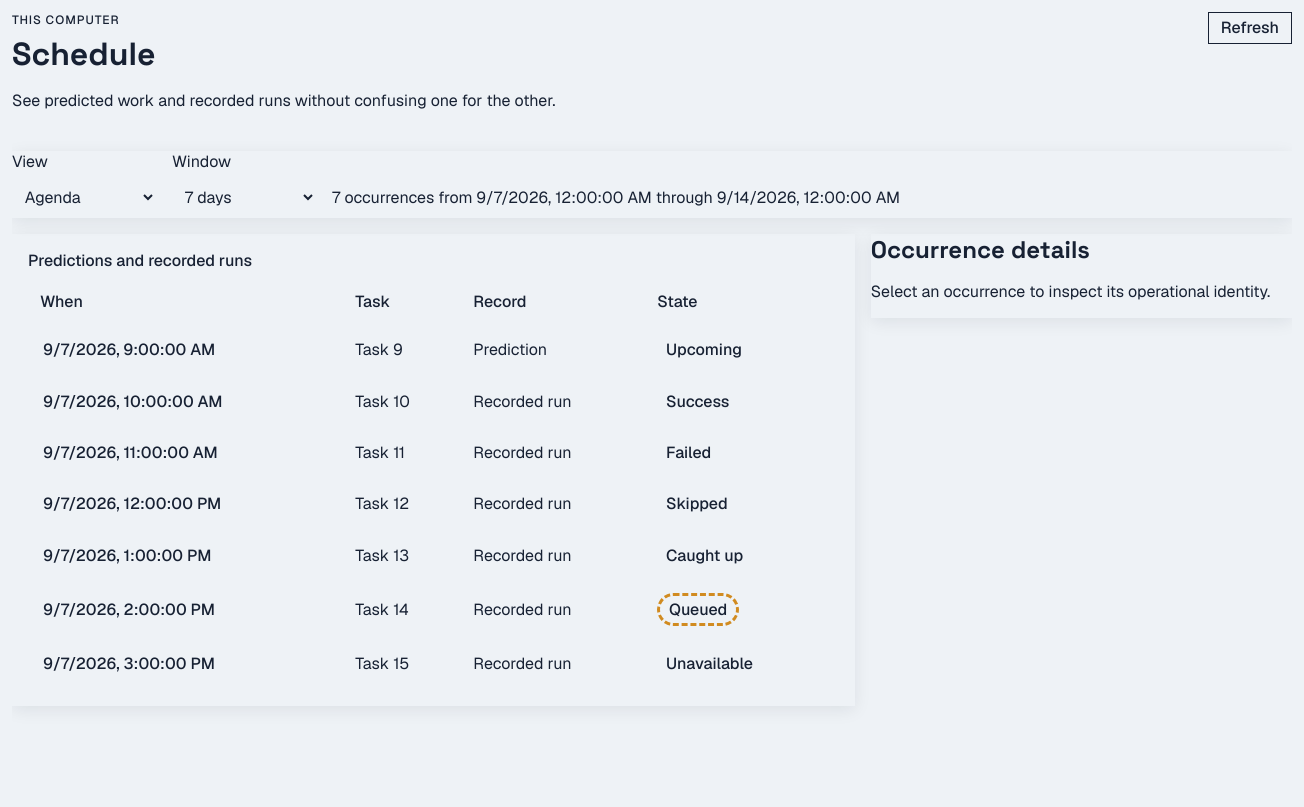
SchedulePage › distinguishes predictions, recorded states, ranges, calendar counts, and stable selection
Expected: the text "Prediction" is shown, left=461, top=324, right=645, bottom=375
Expected: the text "Recorded run" is shown 6 times, left=461, top=375, right=645, bottom=427; left=461, top=427, right=645, bottom=478; left=461, top=478, right=645, bottom=530; left=461, top=530, right=645, bottom=581; left=461, top=581, right=645, bottom=638; left=461, top=638, right=645, bottom=690
Step 1. Click the button "9/7/2026, 9:00:00 AM" → coordinates (129, 350), box left=40, top=336, right=218, bottom=363
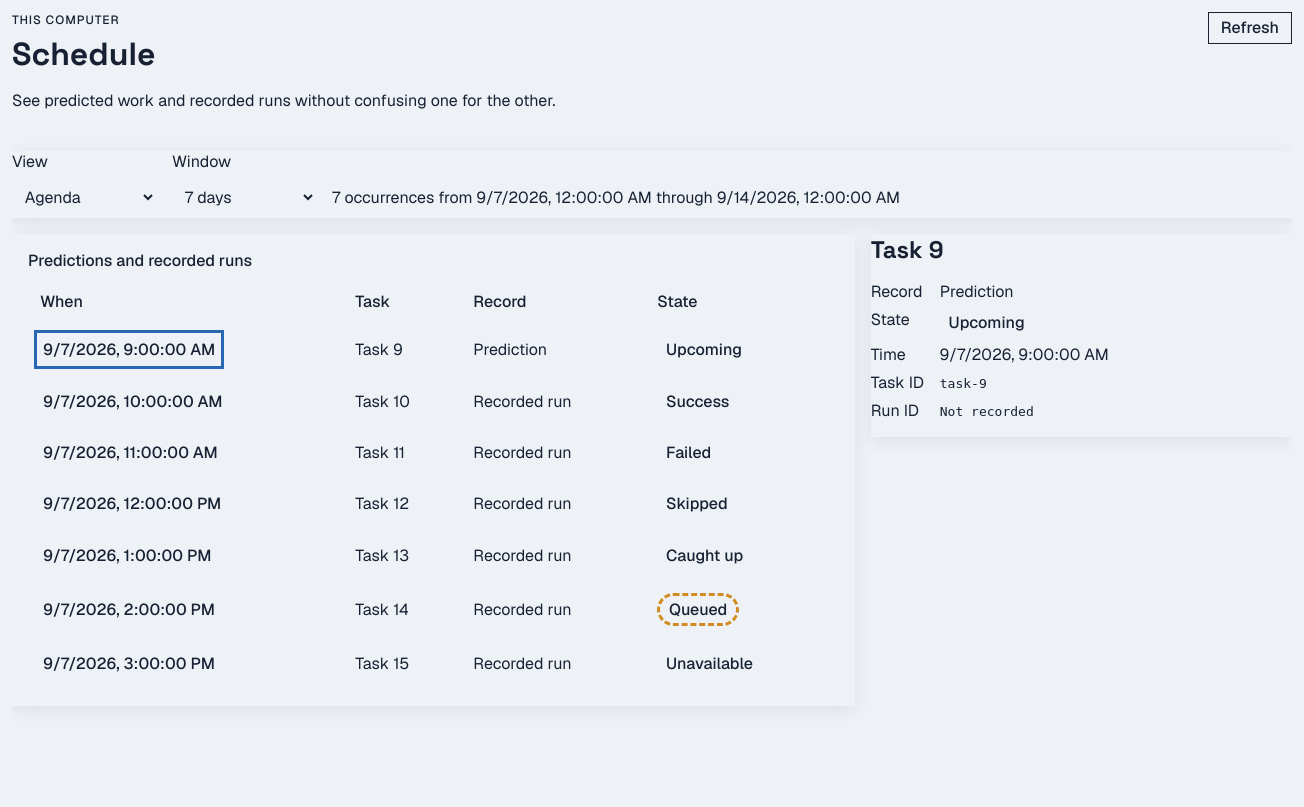
Expected: the heading "Task 9" is shown, left=871, top=234, right=944, bottom=265
Step 2. Select "30 days" in the dropdown labelled "Window" → coordinates (244, 197), box left=172, top=176, right=316, bottom=218
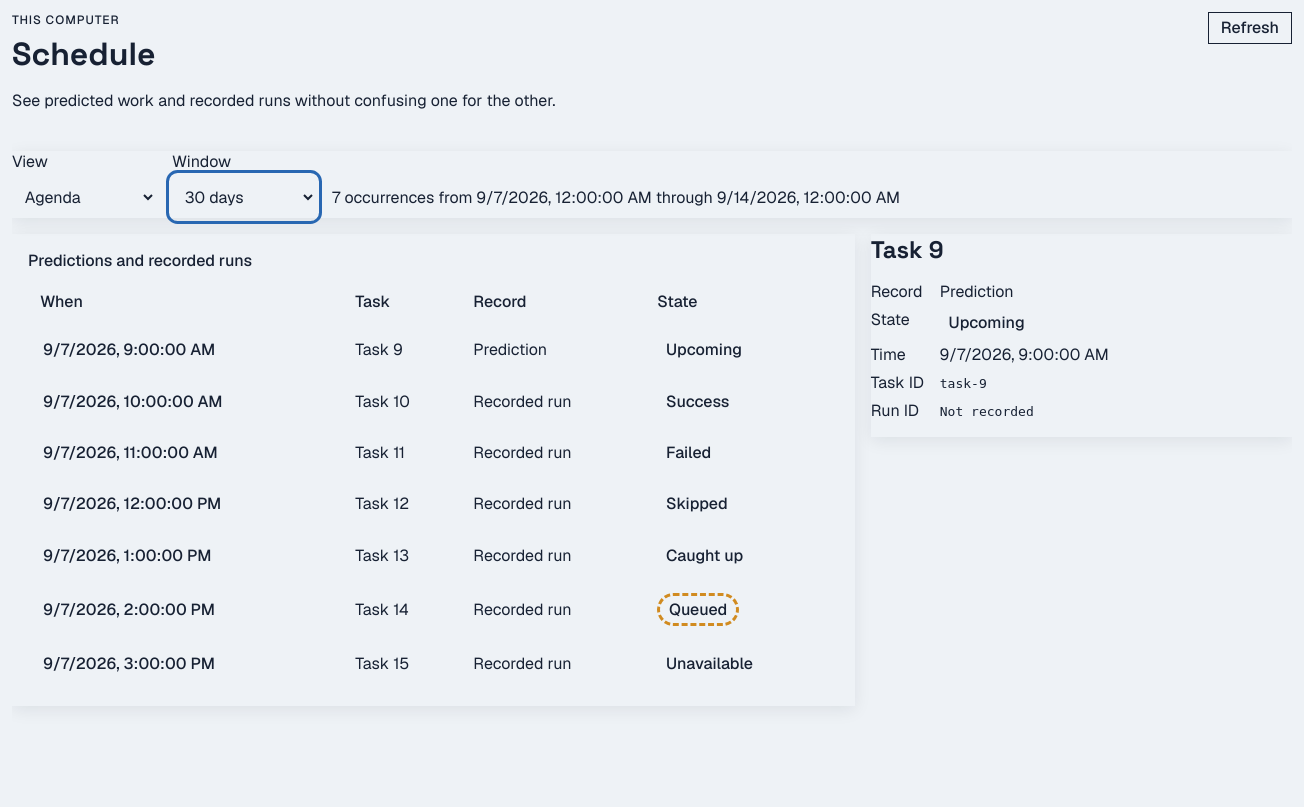
Expected: the heading "Task 9" is shown, left=871, top=234, right=944, bottom=265
Step 3. Select "Calendar" in the dropdown labelled "View" → coordinates (84, 197), box left=12, top=176, right=156, bottom=218
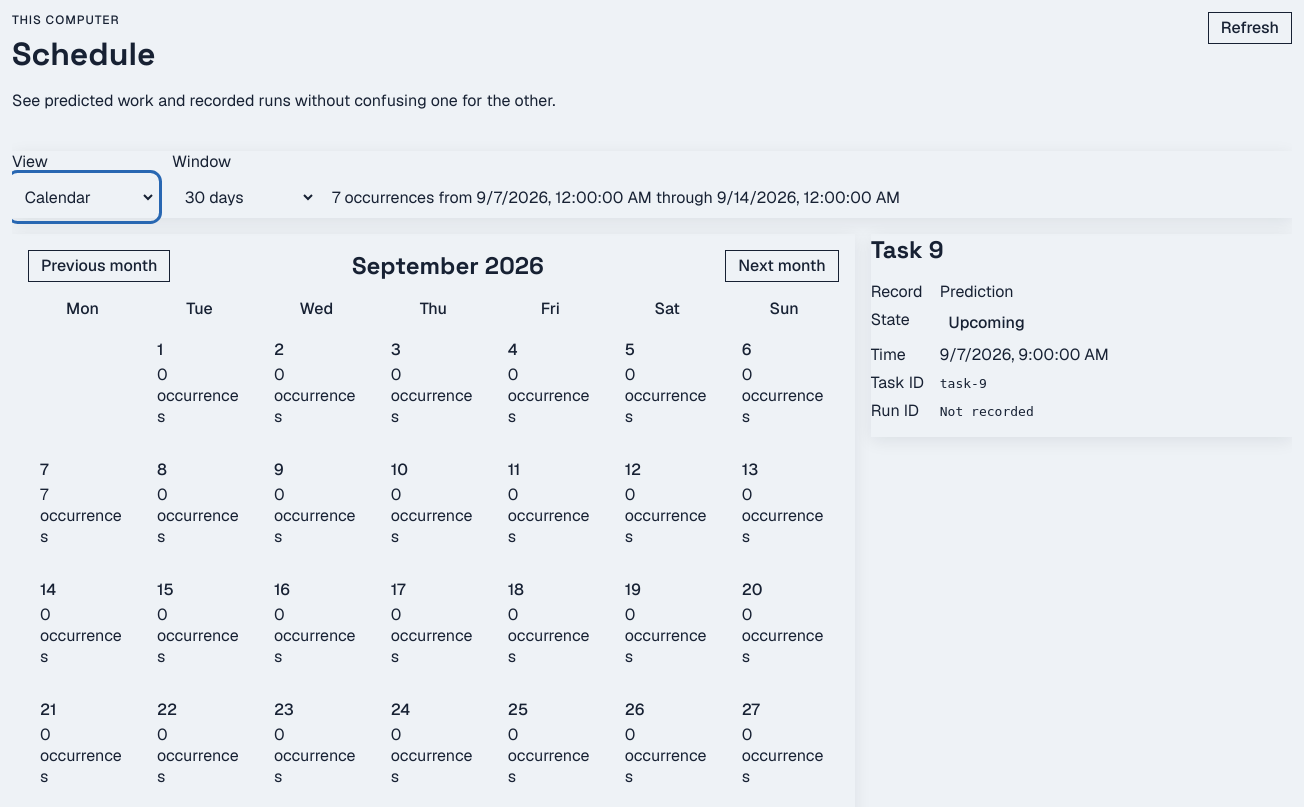
Step 4. Click the button with aria-label "September 7, 2026, 7 occurrences" → coordinates (82, 503), box left=28, top=447, right=137, bottom=559
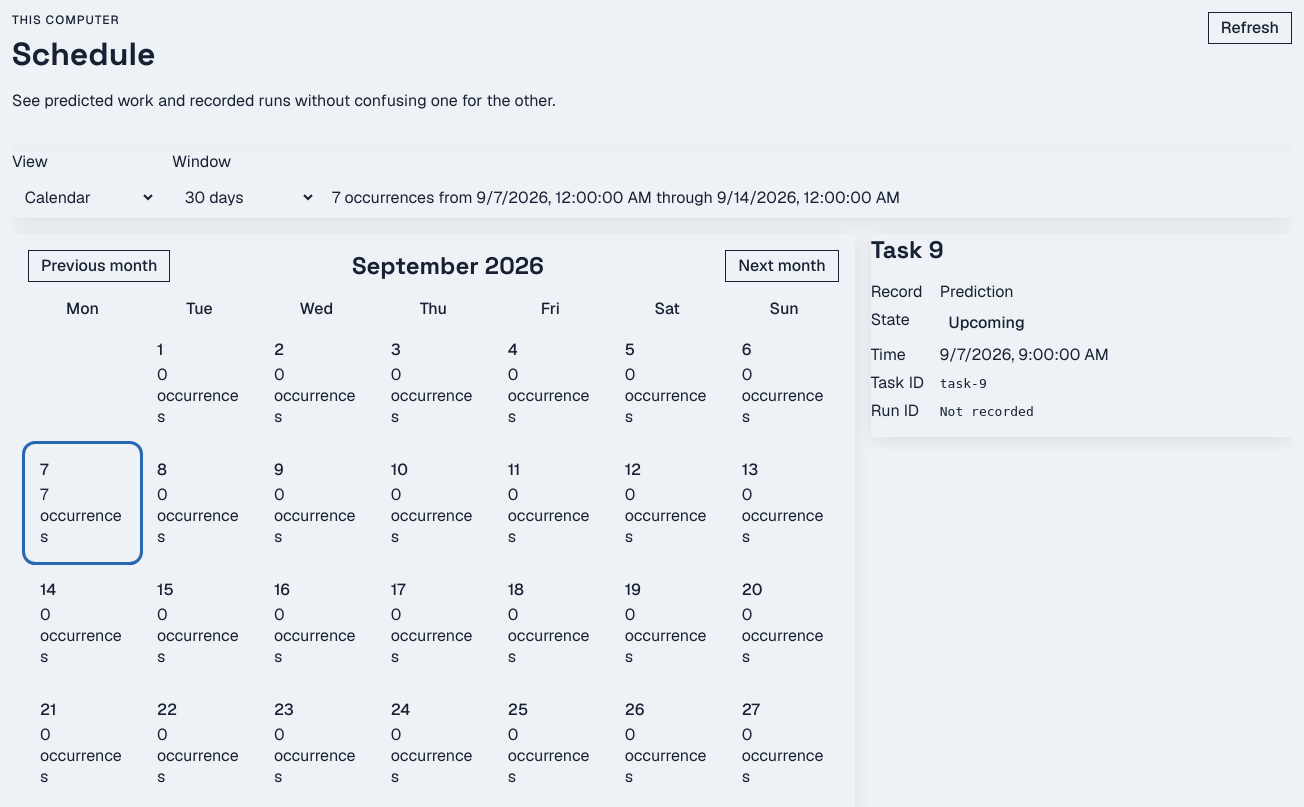
Step 5. Click the button "Next month" → coordinates (782, 266), box left=725, top=250, right=839, bottom=282
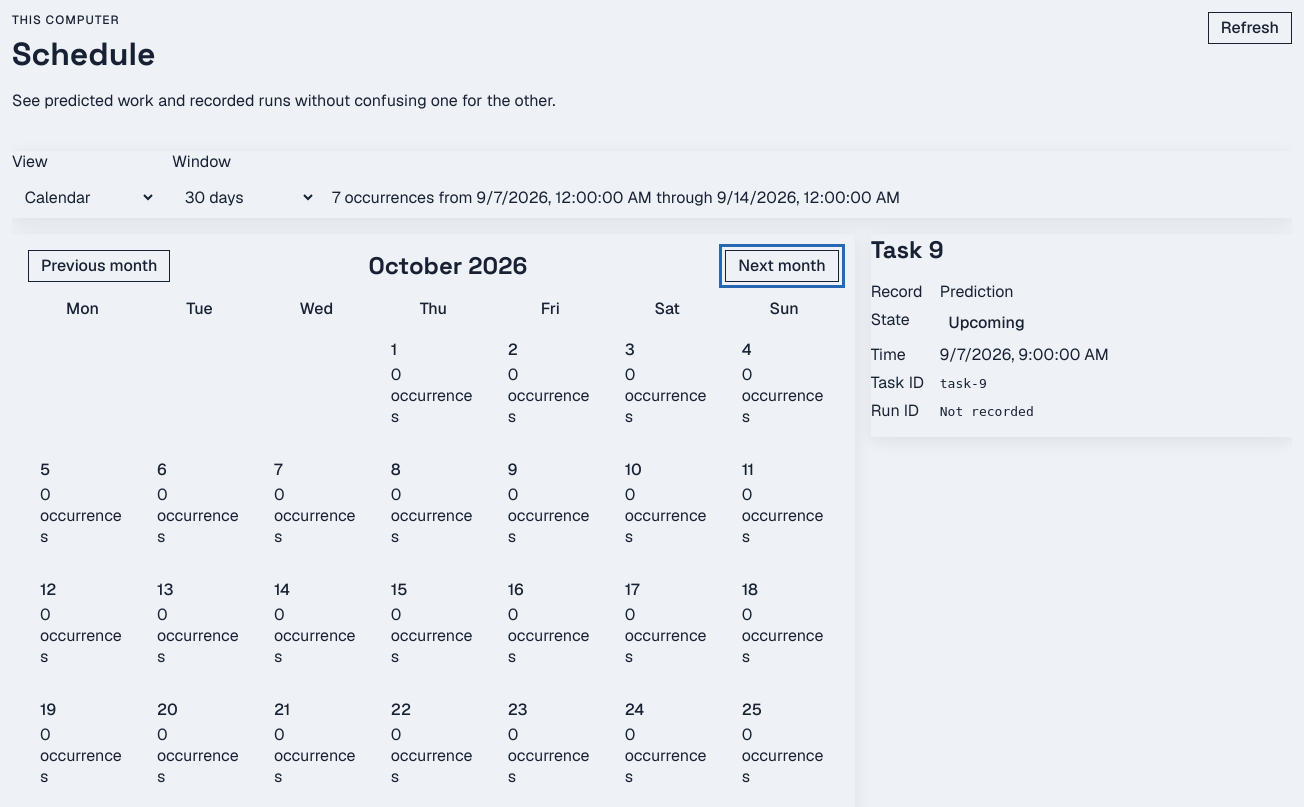
Expected: the heading "October 2026" is shown, left=368, top=250, right=527, bottom=281
Step 6. Click the button "Previous month" → coordinates (99, 266), box left=28, top=250, right=170, bottom=282
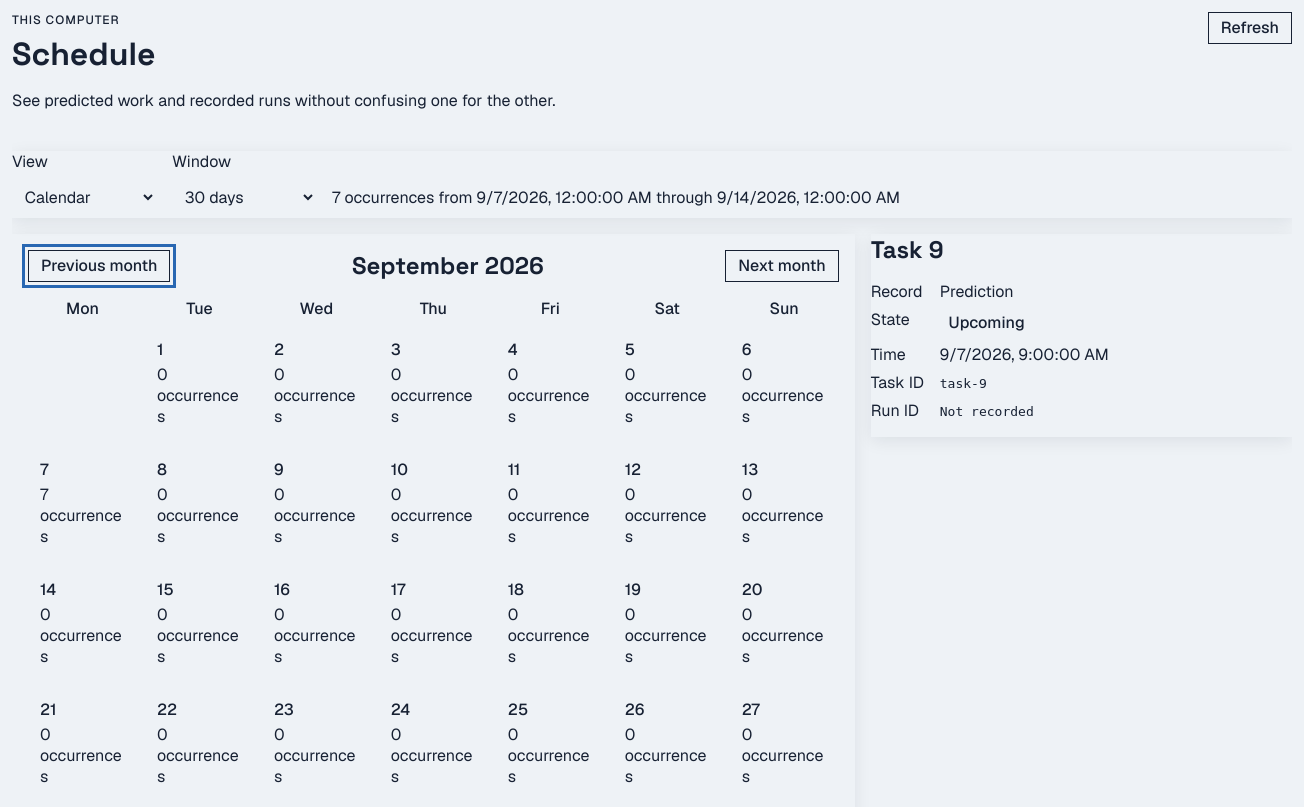
Expected: the heading "September 2026" is shown, left=352, top=250, right=544, bottom=281
